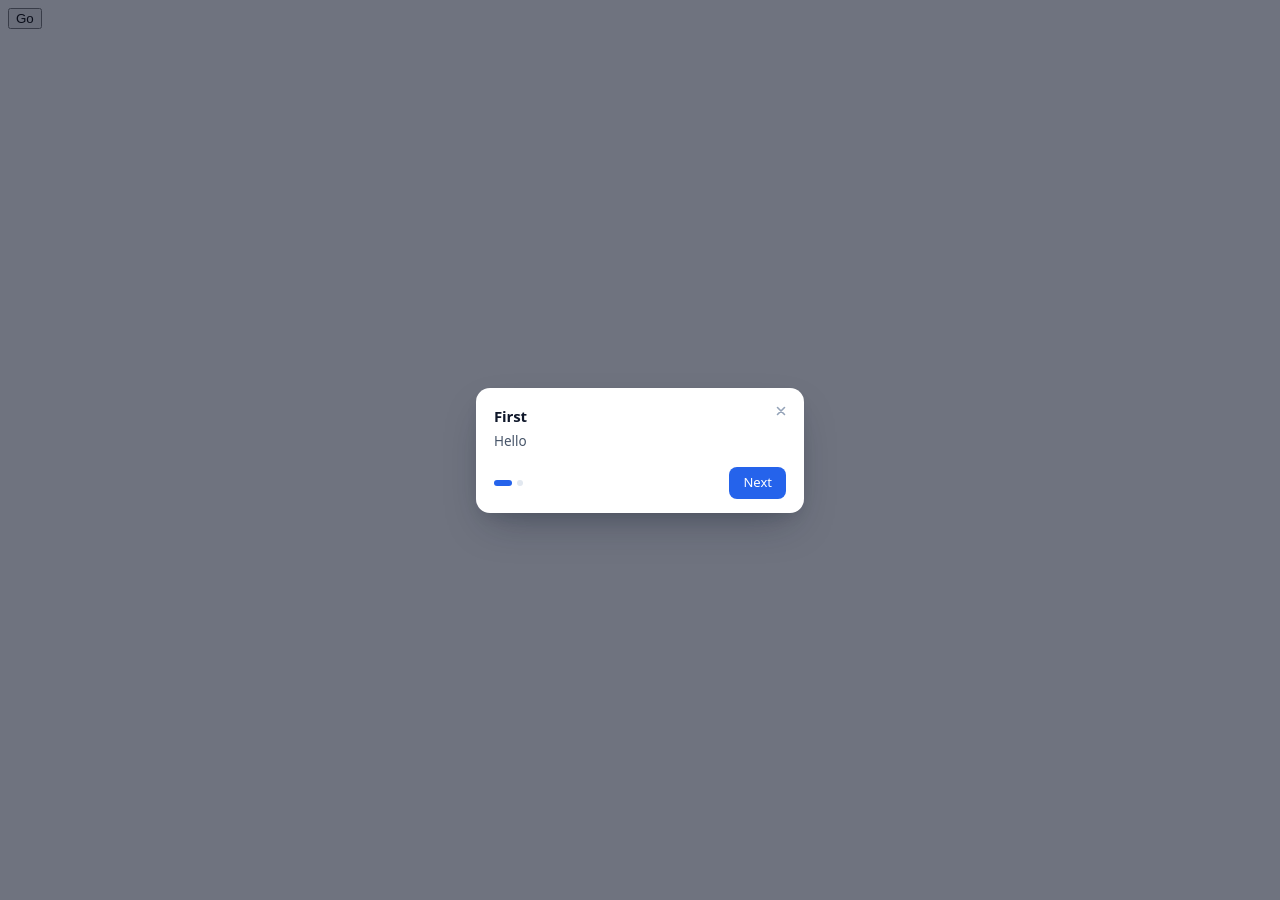
<SpotlightTour> › renders the popover for the running tour and follows state
Check: the heading with class "sk-title" reads "First", box [494,406,527,426]
Check: the text with class "sk-body" reads "Hello", box [494,432,527,450]
Click the button with class "sk-btn-primary" at [758, 483], box [730,467,786,499]
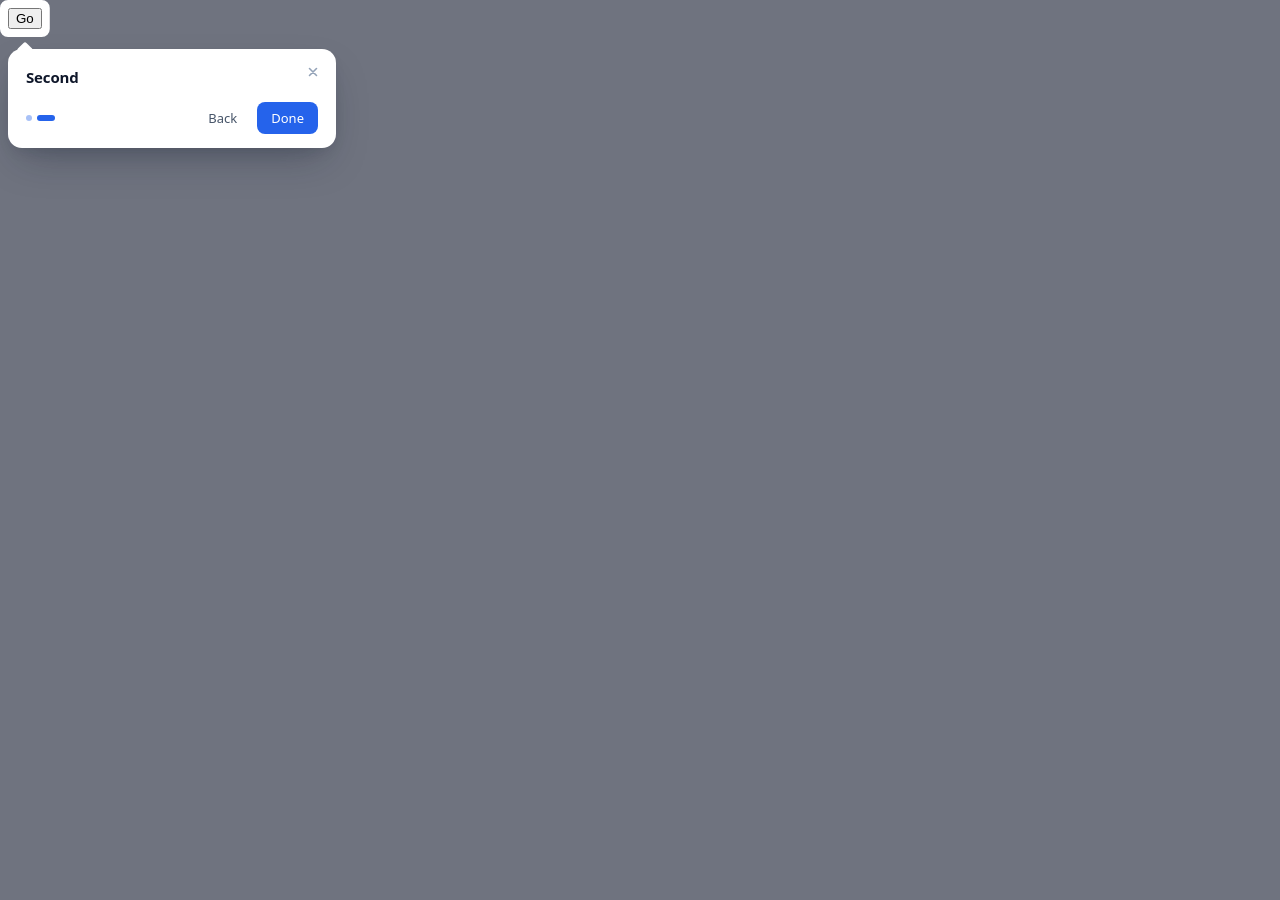
Check: the heading with class "sk-title" reads "Second", box [26,67,79,87]
